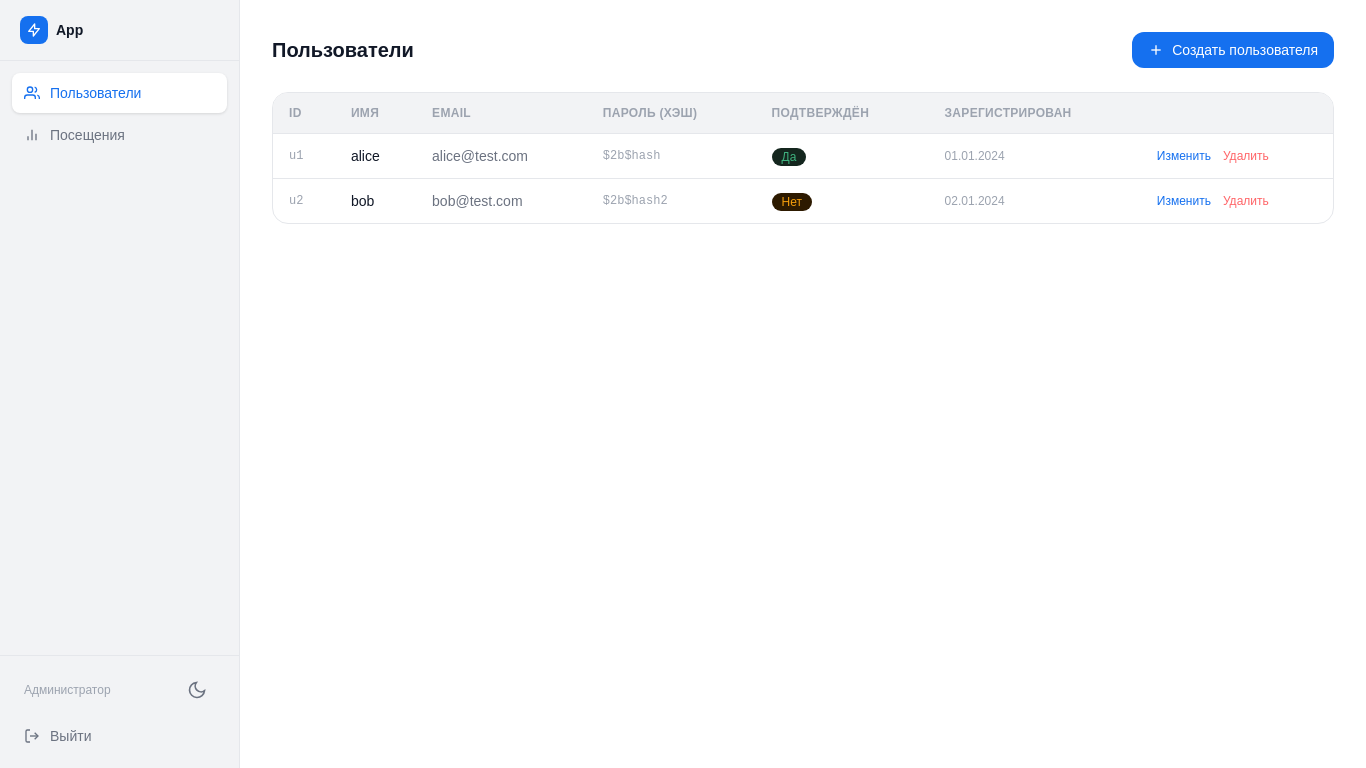
Test case: AdminPage — панель управления › клик «Создать пользователя» открывает модальное окно
The image size is (1366, 768).
Expected: the text "alice" is shown, [335,134,416,178]
Click the button "Создать пользователя" at (1233, 50), box [1132,32,1334,68]
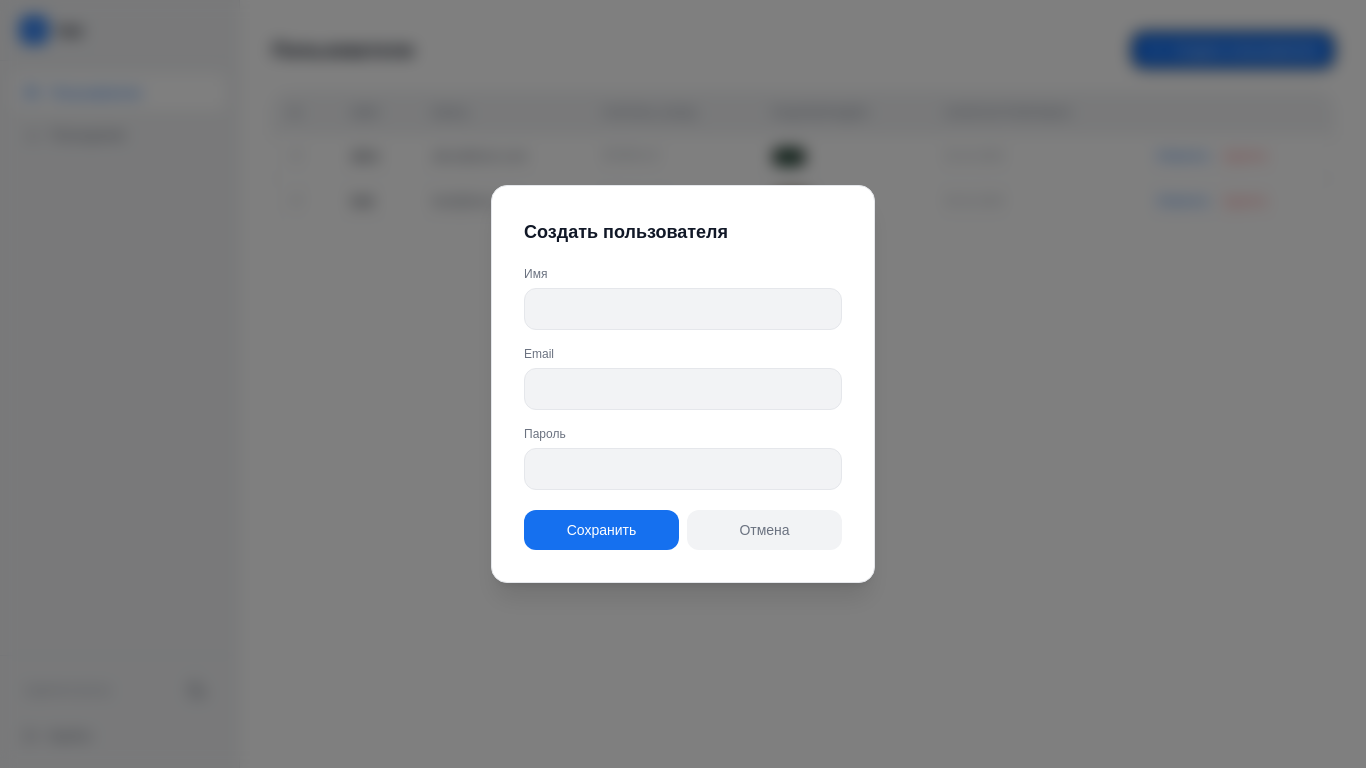
Now the heading "Создать пользователя" is shown, box [524,222,728,242]
